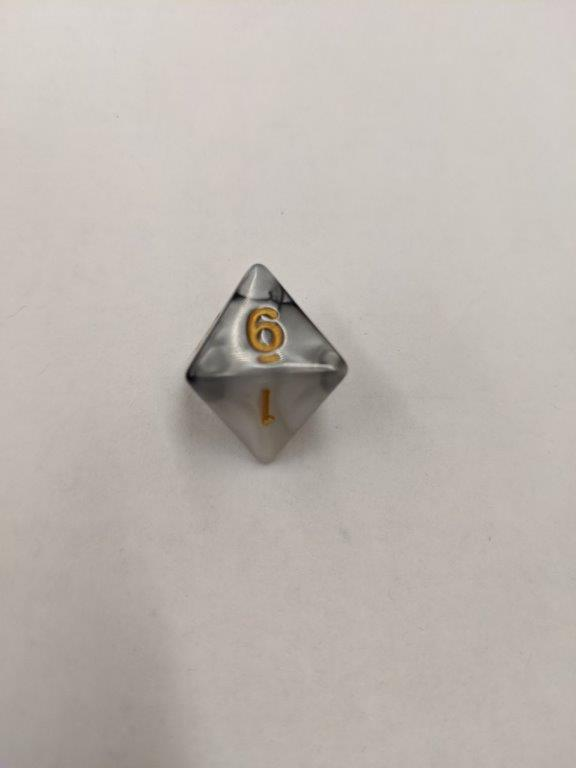d8-6: (184, 261, 349, 467)
